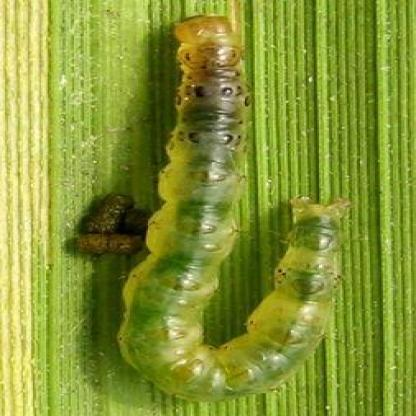leaf-folder: (106, 4, 352, 407)
